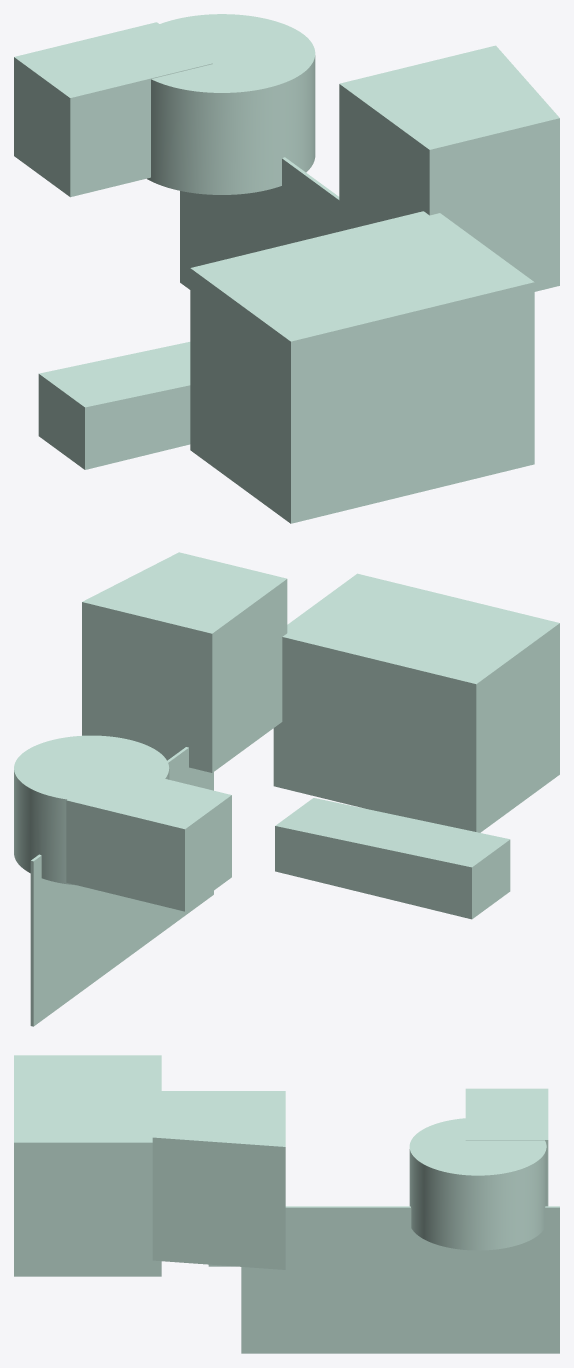
3 renders of one model, top to bottom at view 1: azimuth 30°, elevation 25°; view 2: azimuth 150°, elevation 25°; view 3: azimuth 270°, elevation 25°, orthographic. The views are drawn at different scales.
Parts seen in each view (by area): view 1: Renderer Node; view 2: Renderer Node; view 3: Renderer Node.
Boxes of the visible parts, <box> form: Renderer Node: <box>14,14,559,523</box>; Renderer Node: <box>14,552,559,1026</box>; Renderer Node: <box>14,1055,559,1353</box>.
Size of the model in its own units: 1.04 by 0.7344 by 1.45.
